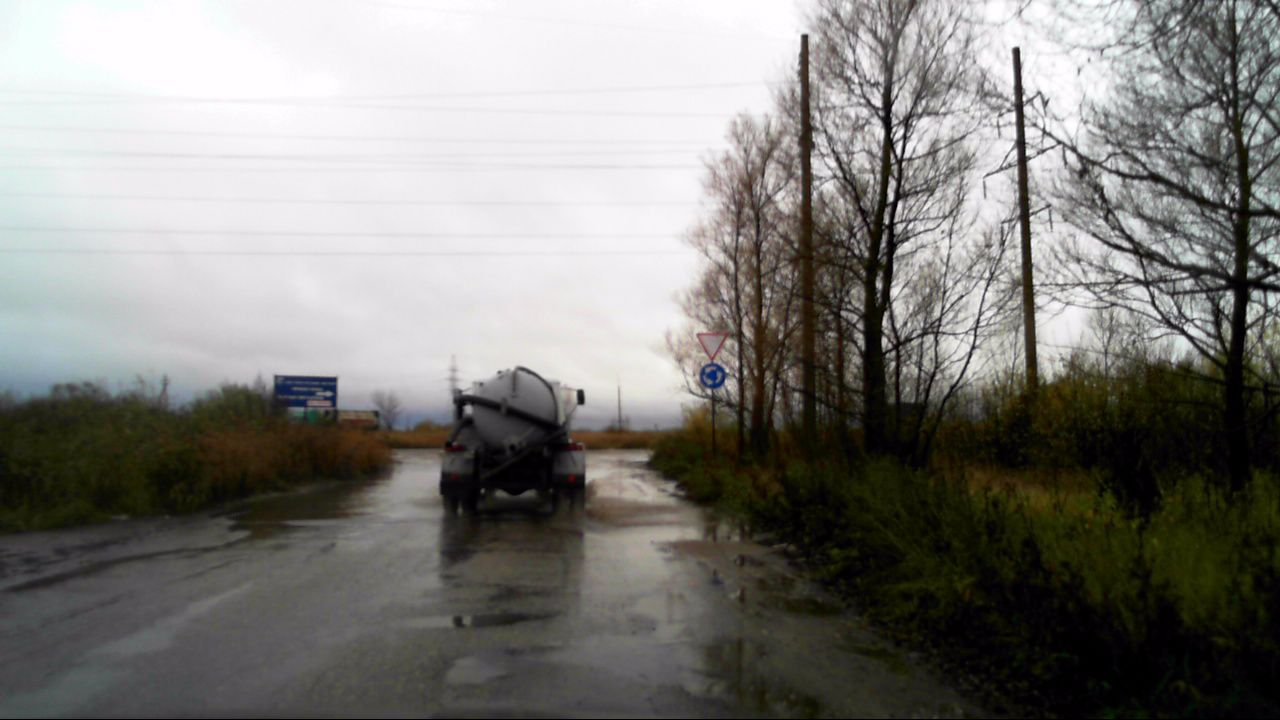Round-About: (700, 363, 727, 389)
